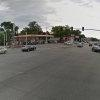Tree: (21, 15, 47, 34)
